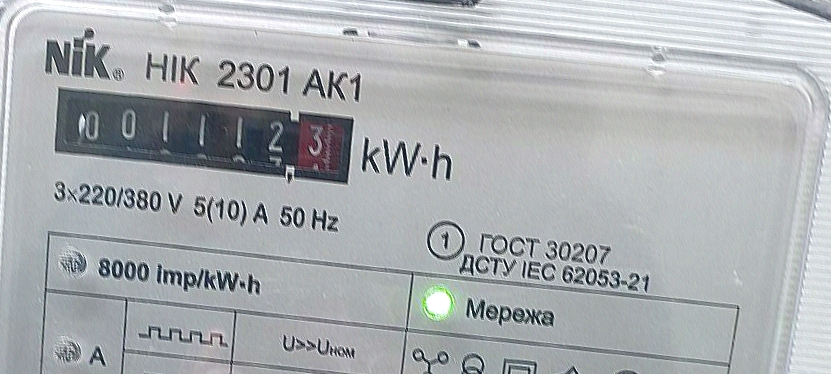0: (112, 104, 139, 145), (76, 106, 102, 144)
1: (151, 106, 174, 146), (189, 110, 208, 150), (227, 114, 246, 152)
2: (260, 118, 286, 157)
3: (301, 122, 323, 160)
screen: (40, 75, 361, 197)
